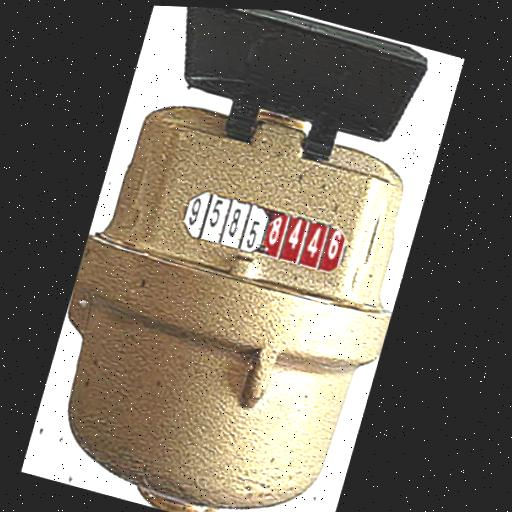4: (299, 221, 329, 270), (281, 214, 308, 263)
5: (201, 194, 232, 243), (241, 204, 271, 254)
6: (320, 227, 352, 275)
8: (220, 199, 250, 249), (261, 209, 290, 259)
9: (179, 188, 210, 238)
border_water_meter_number: (176, 187, 355, 278)
